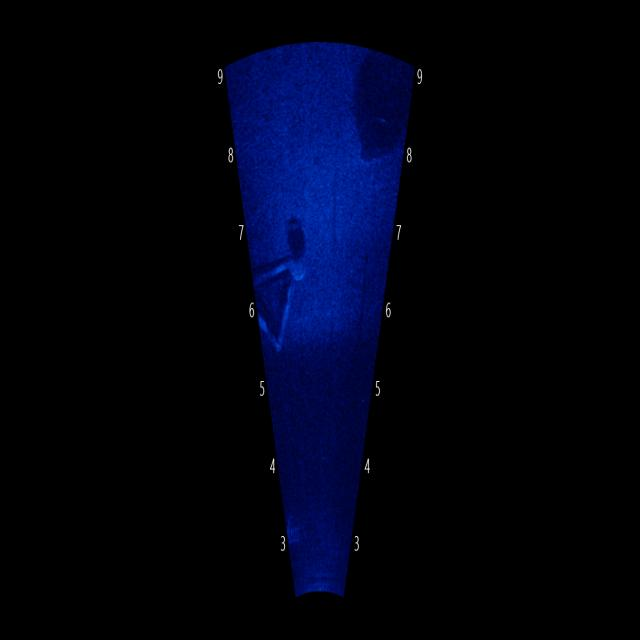triangle: (256, 193, 316, 362)
